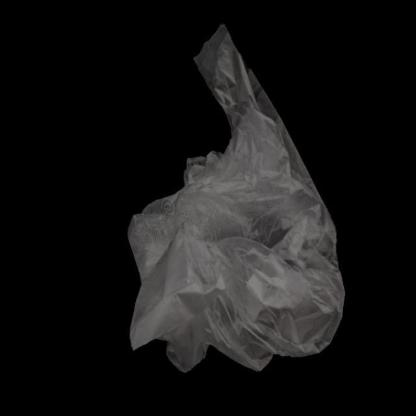Plastic Bag: (126, 23, 346, 373)
